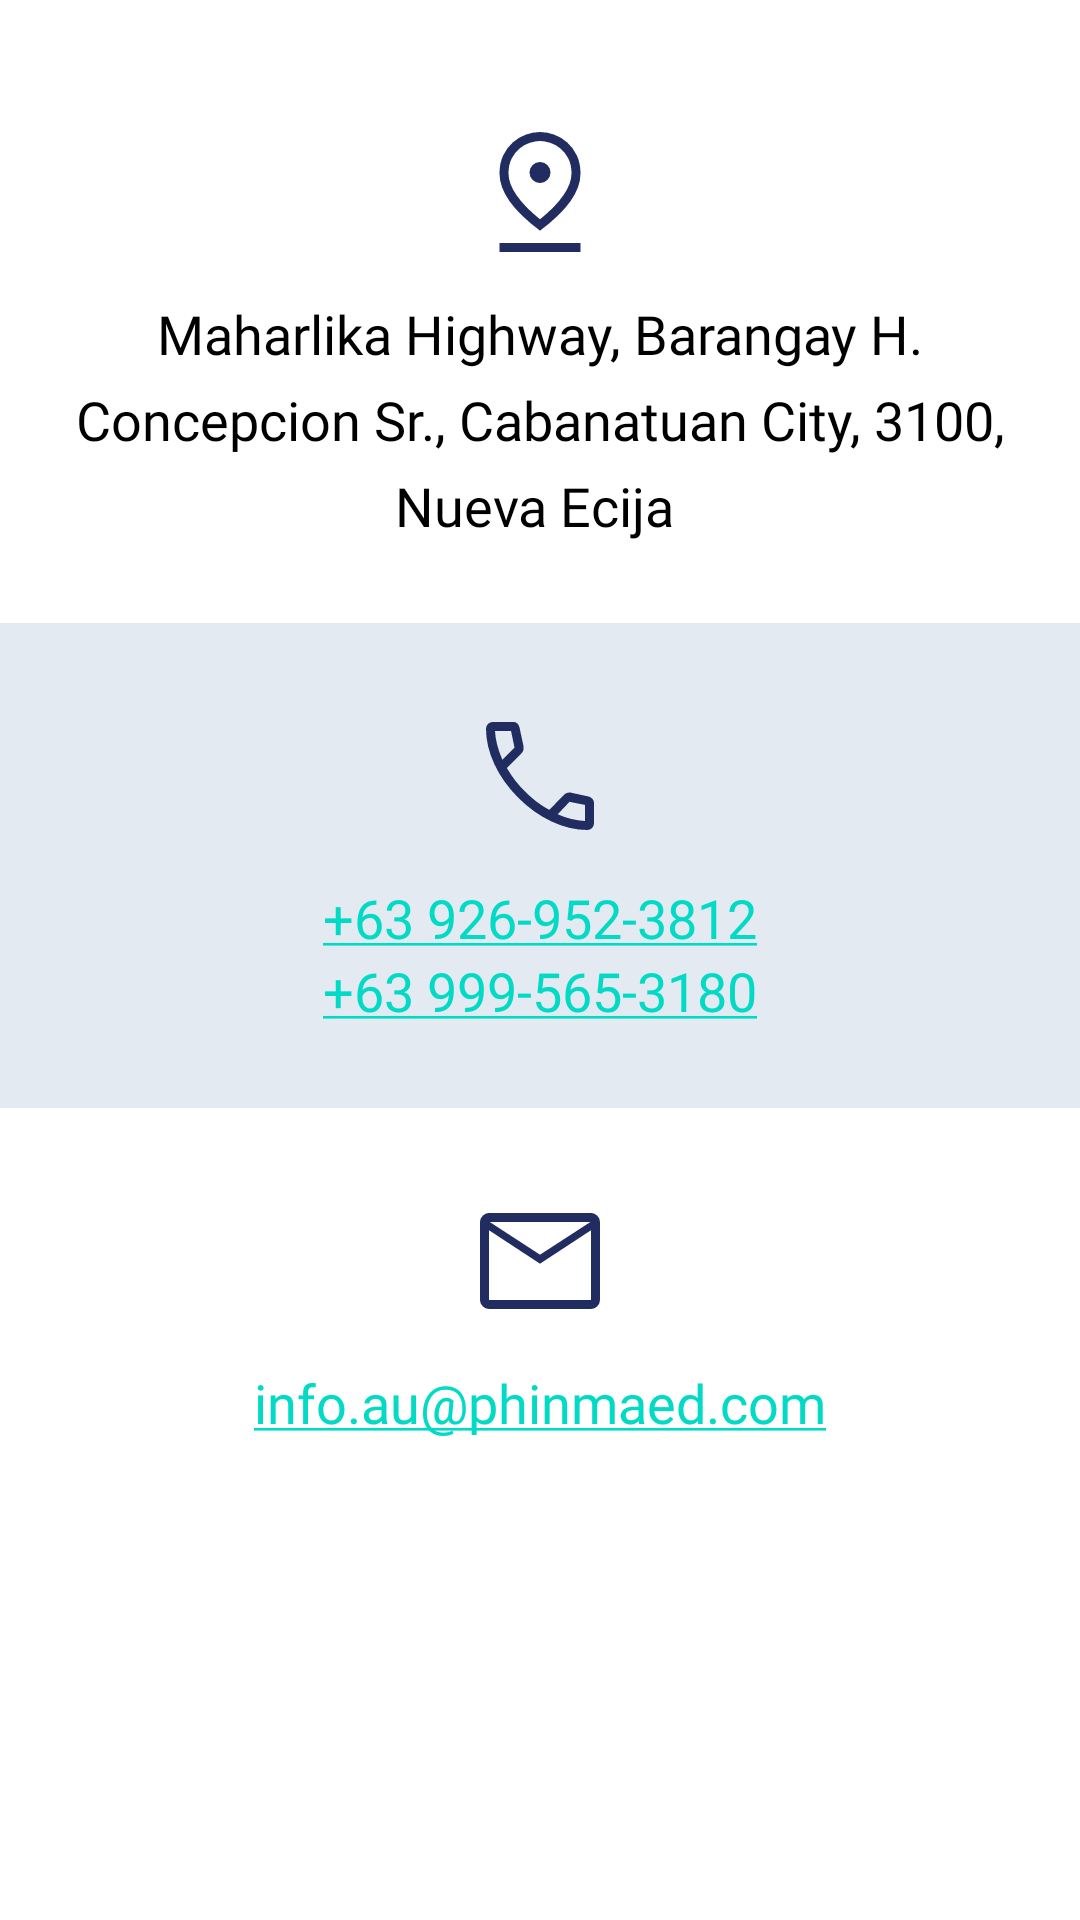

Where to tap for icons on this 1080 × 1920 app screen, as (x=x, y=y):
contact: (x=540, y=776)
contact email: (x=540, y=1261)
contact location: (x=540, y=192)
